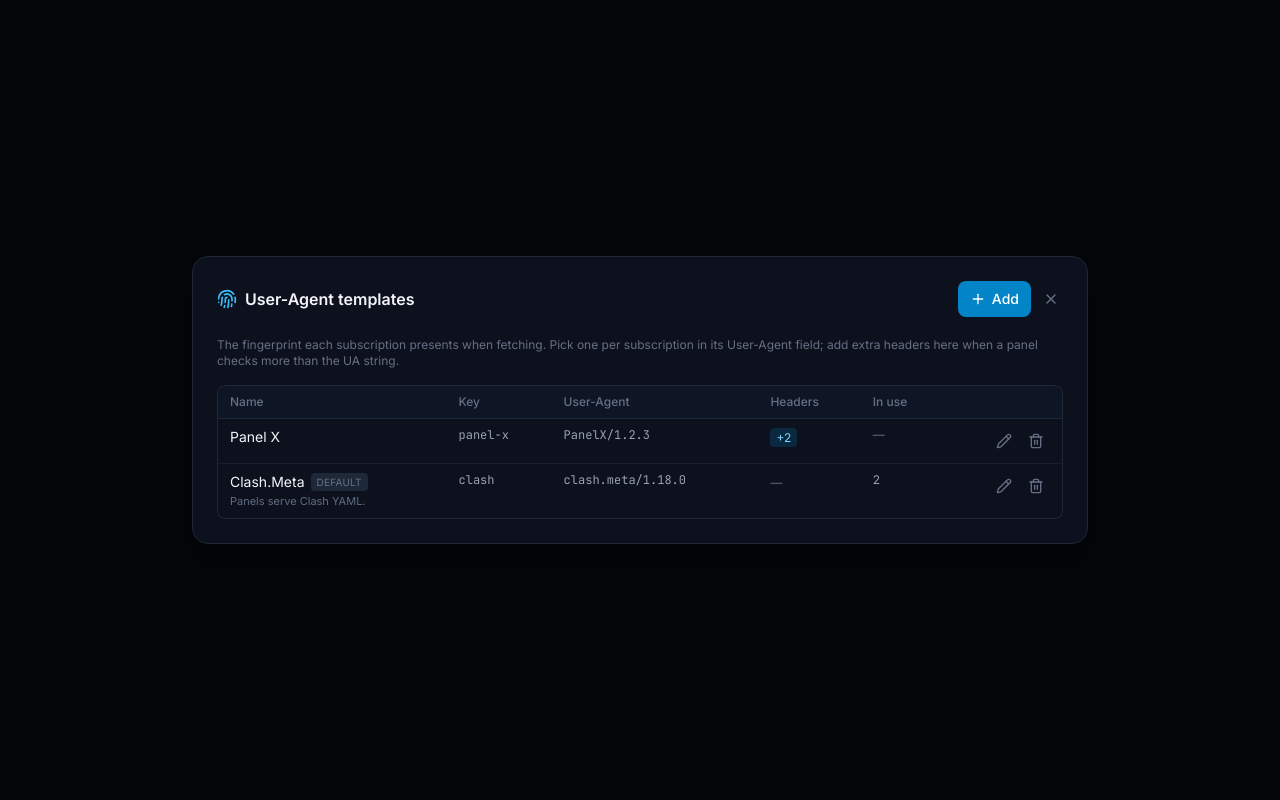
Scenario: <UserAgentTemplatesModal> › blocks a malformed header name
Expected: the text "Panel X" is shown, [230, 427, 280, 447]
Click the button "Add" at (994, 299), box [958, 281, 1031, 317]
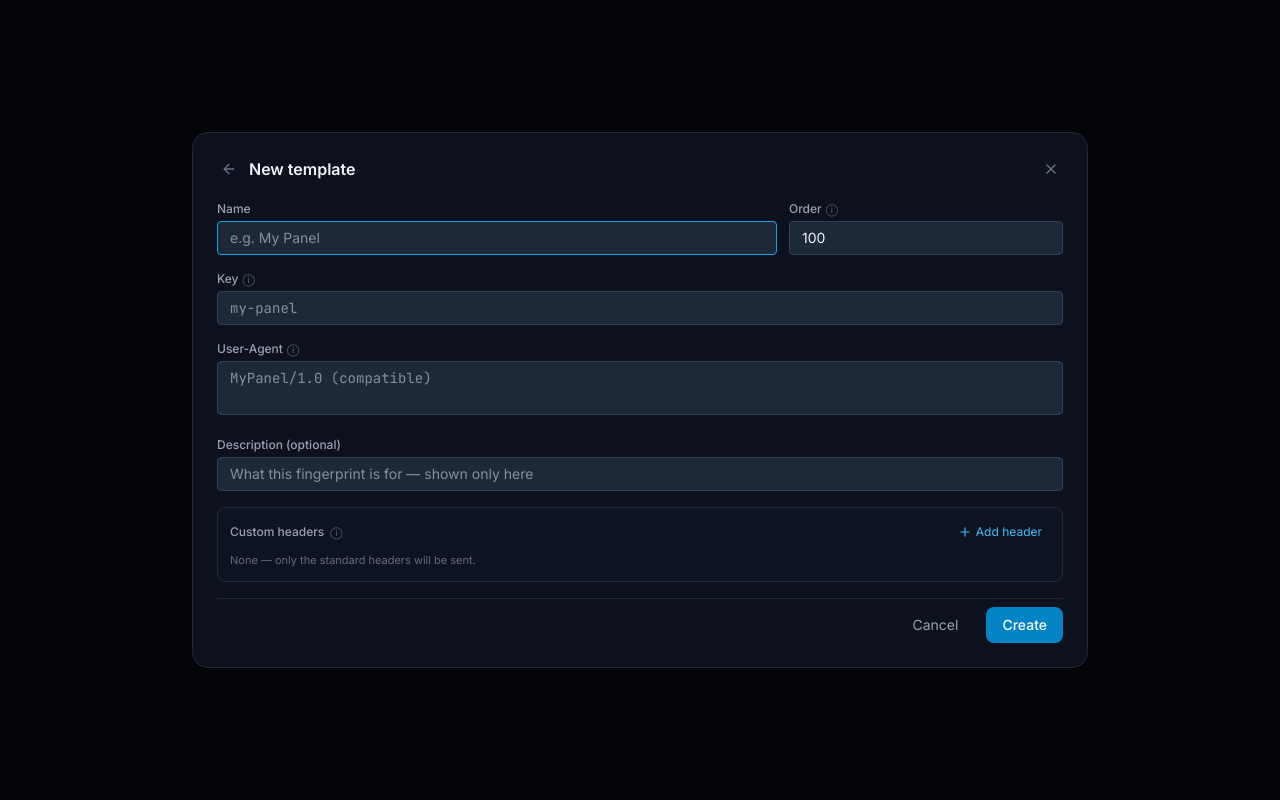
Type "V" into the field labelled "Name" at (497, 238), box [217, 221, 777, 255]
Type "v" into the field labelled "Key" at (640, 308), box [217, 291, 1063, 325]
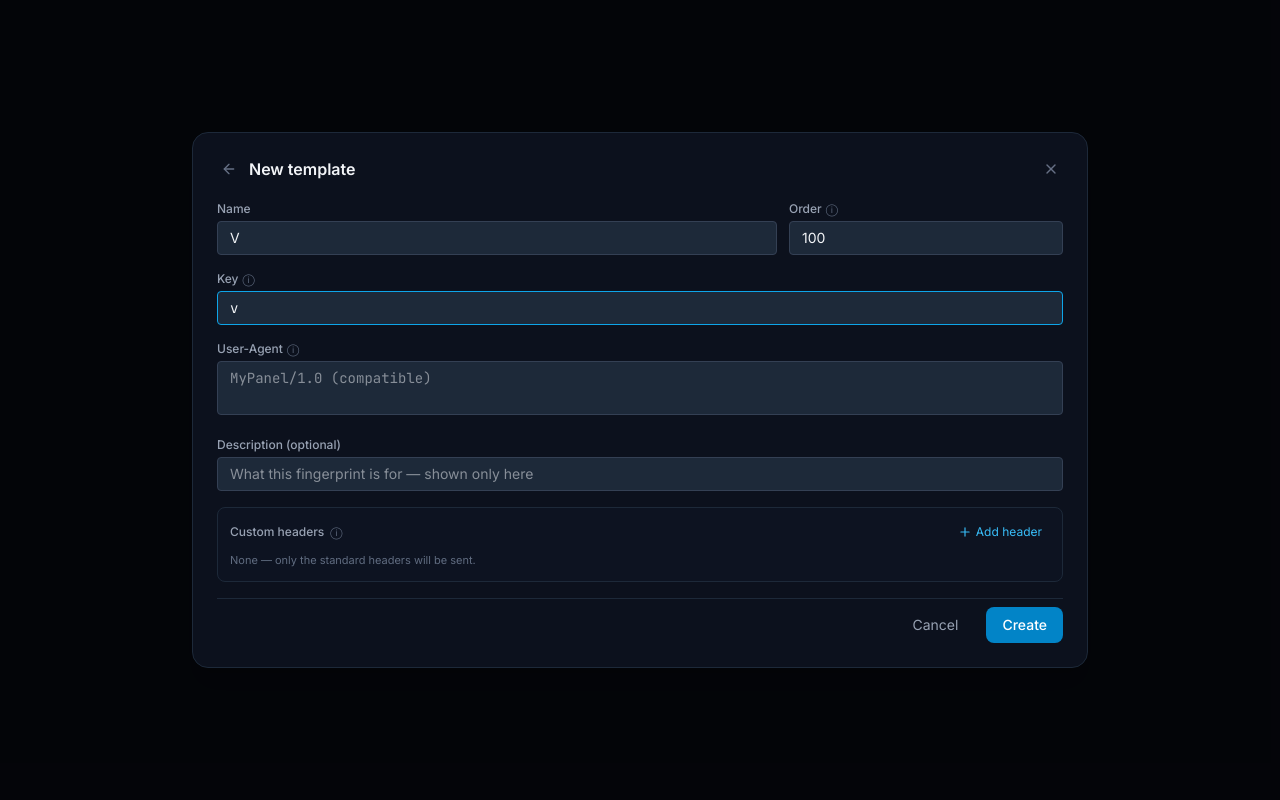
Type "V/1.0" into the text box labelled "User-Agent" at (640, 388), box [217, 361, 1063, 415]
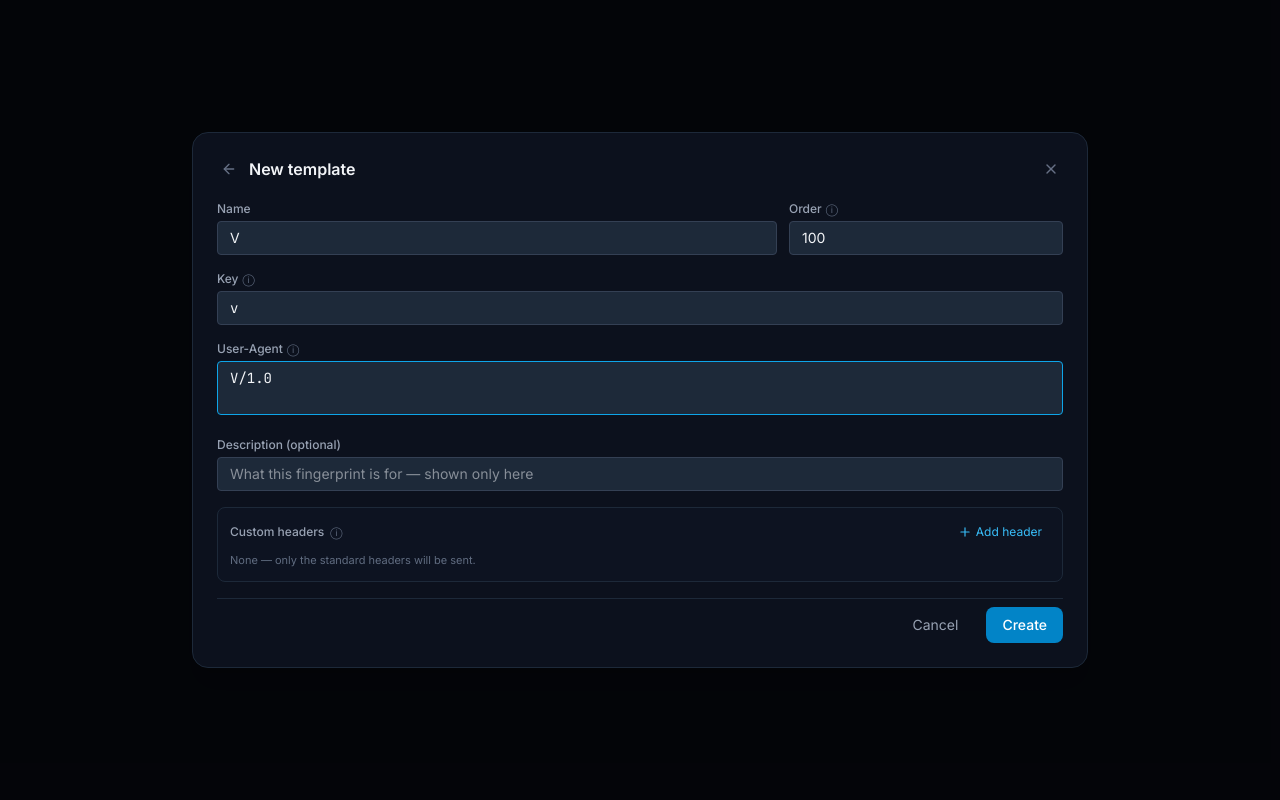
Click the button "Add header" at (1000, 532), box [950, 520, 1050, 544]
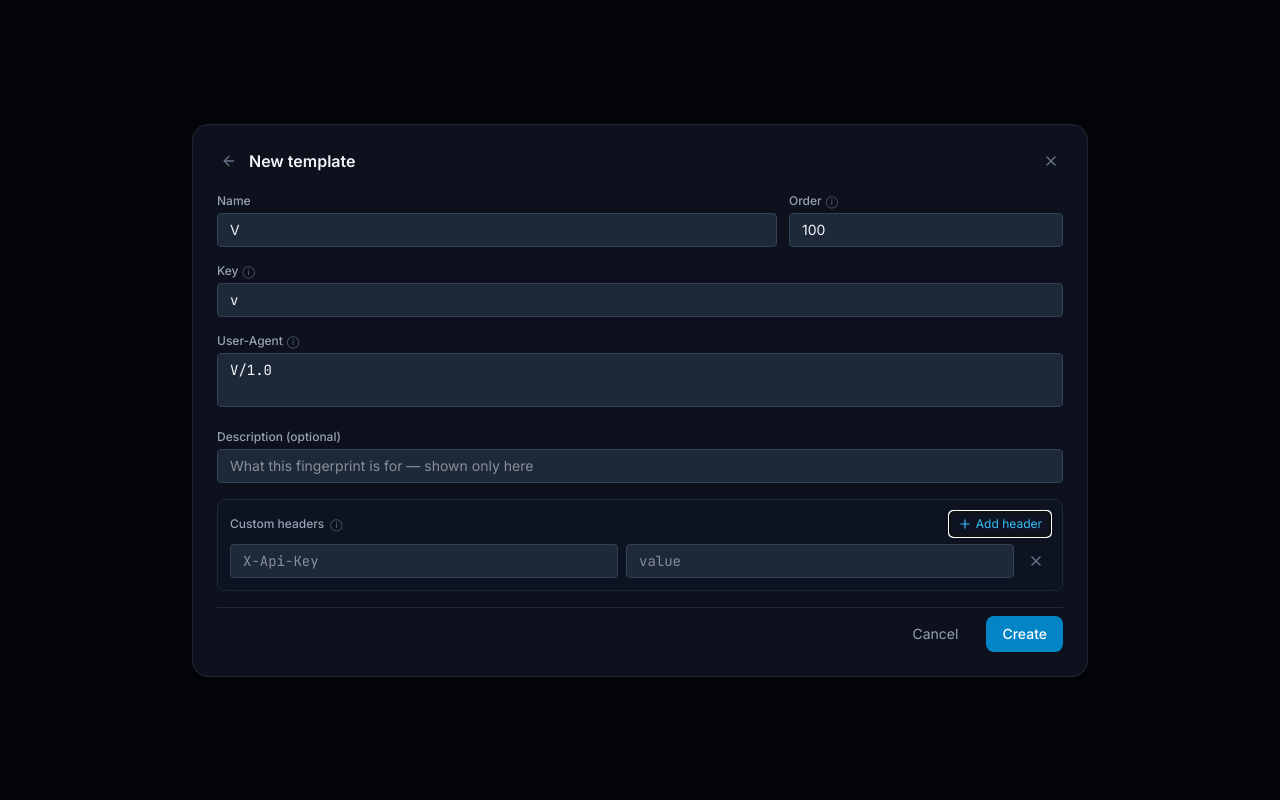
Type "X Bad" into the field named "header 1 name" at (424, 560), box [230, 544, 618, 578]
Type "v" into the field named "header 1 value" at (820, 560), box [626, 544, 1014, 578]
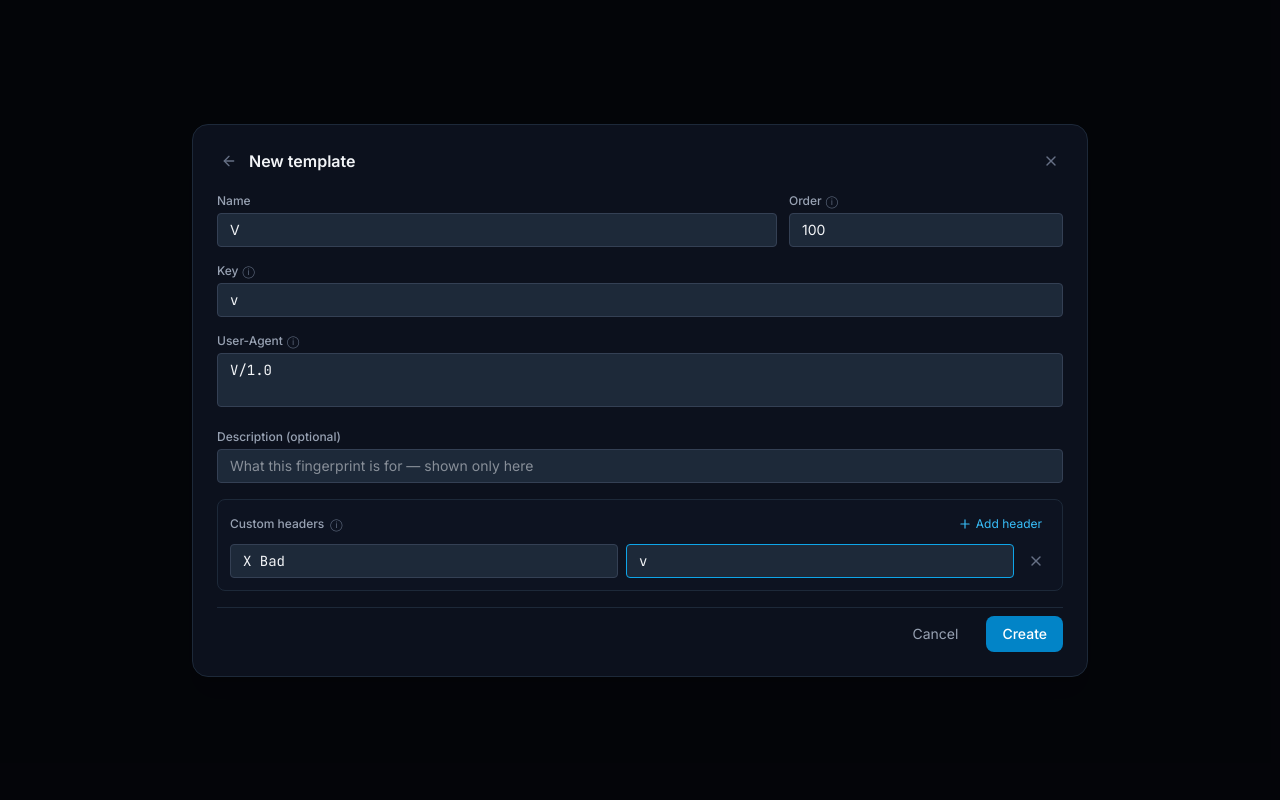
Click the button "Create" at (1025, 634), box [986, 616, 1063, 652]
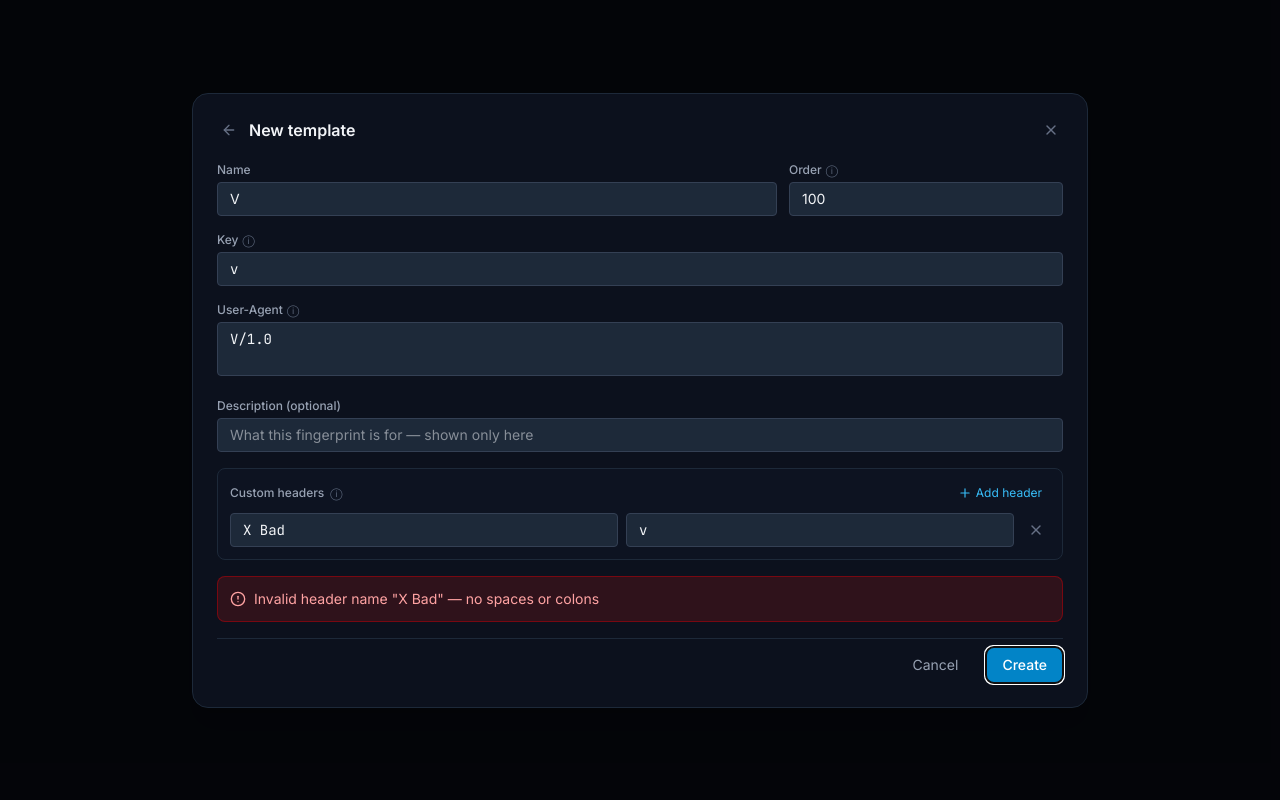
Expected: the message shows "Invalid header name", [254, 590, 599, 606]
